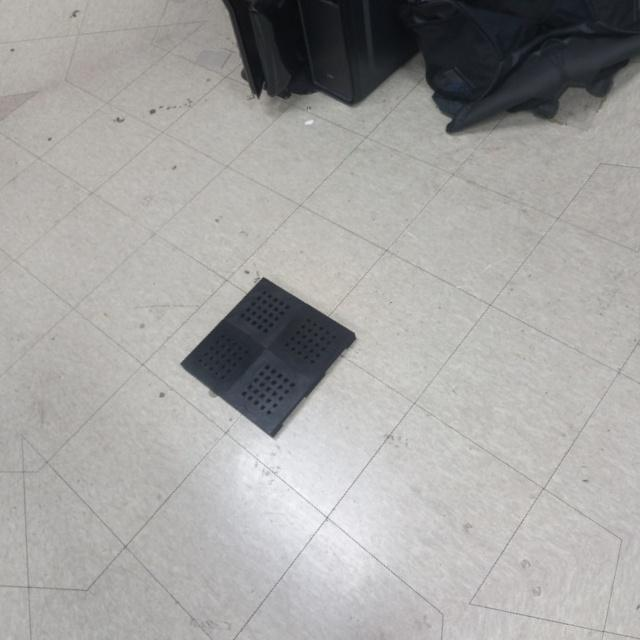pallet: (173, 266, 364, 444)
